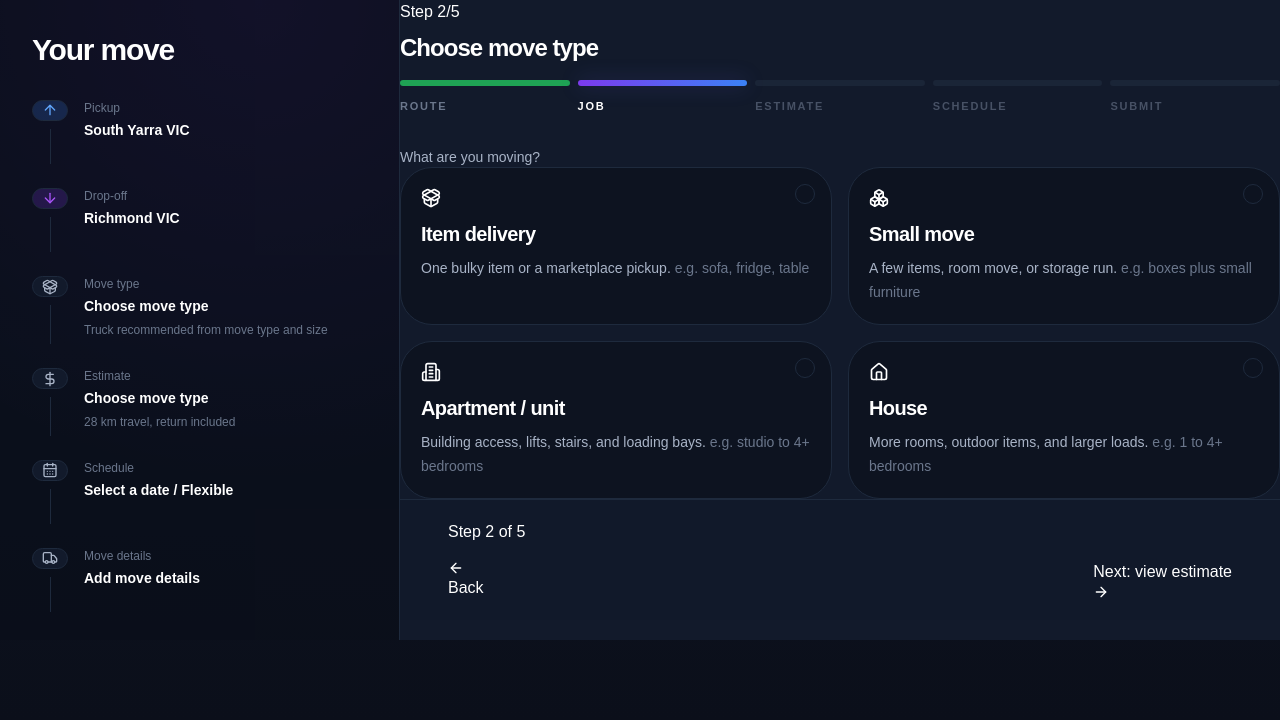
Test: QuoteForm route pricing integration › keeps base-to-pickup free when it is under an hour and still includes return-base travel
Click the radio button labelled "Apartment / unit" at (493, 408), box [400, 340, 832, 498]
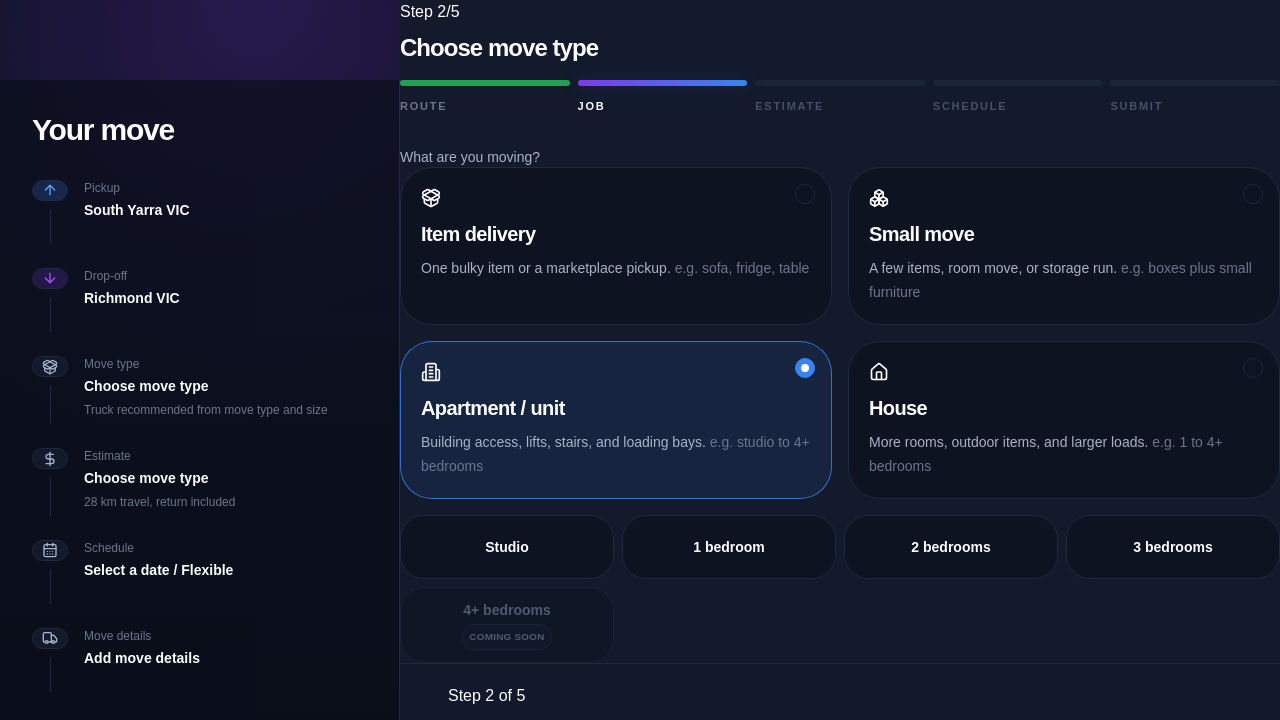
Click the radio button labelled "2 bedrooms" at (951, 546), box [844, 514, 1058, 578]
(page scrolled)
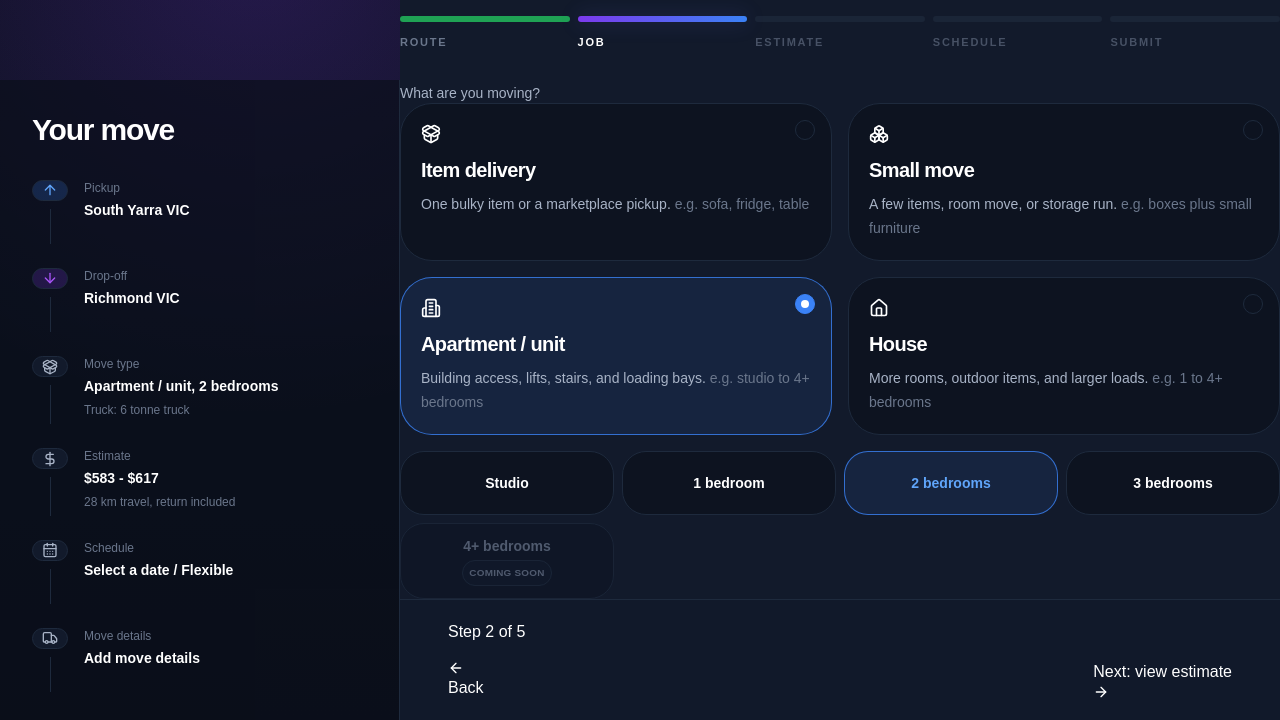
Check: the text "$583 - $617" is shown, box [84, 470, 159, 486]
Click the button "Next: view estimate" at (1163, 680), box [1093, 660, 1232, 700]
(page scrolled)
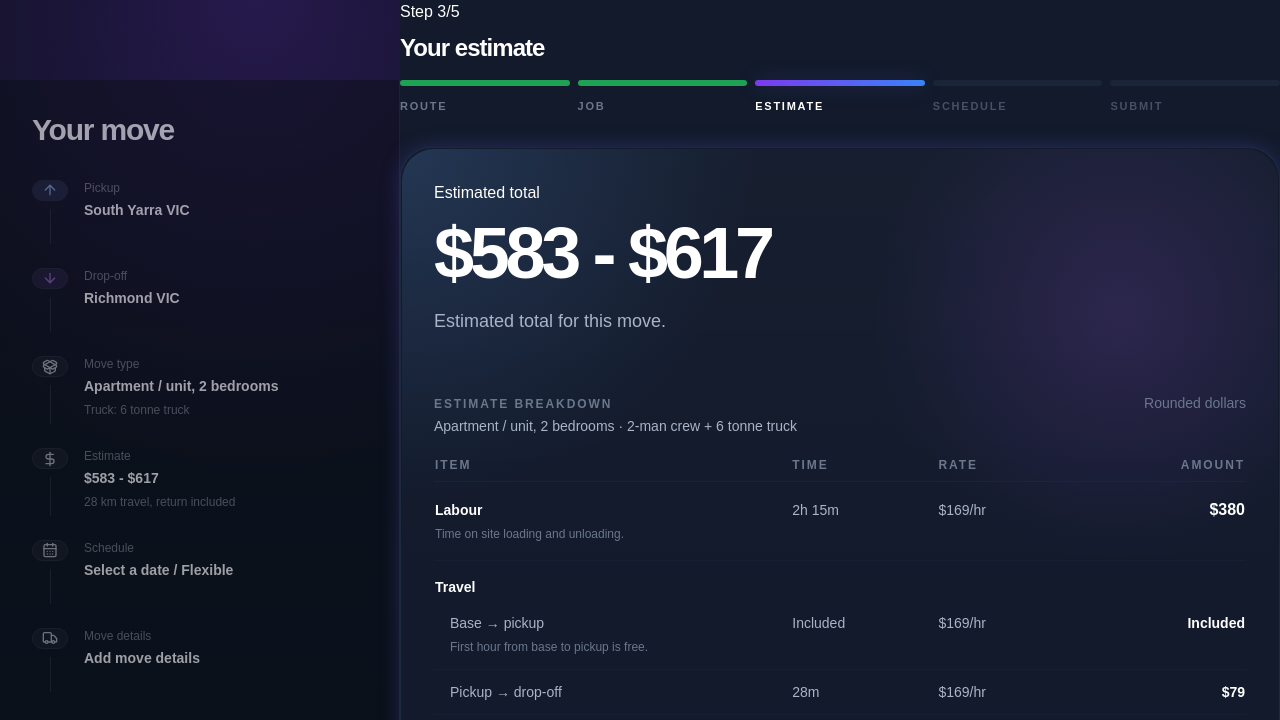
Check: the text "$583 - $617" below "Truck: 6 tonne truck" is shown, box [84, 470, 159, 486]
Check: the heading "Your estimate" is shown, box [400, 34, 544, 61]
Check: the text "Apartment / unit, 2 bedrooms · 2-man crew + 6 tonne truck" is shown, box [434, 416, 797, 436]
